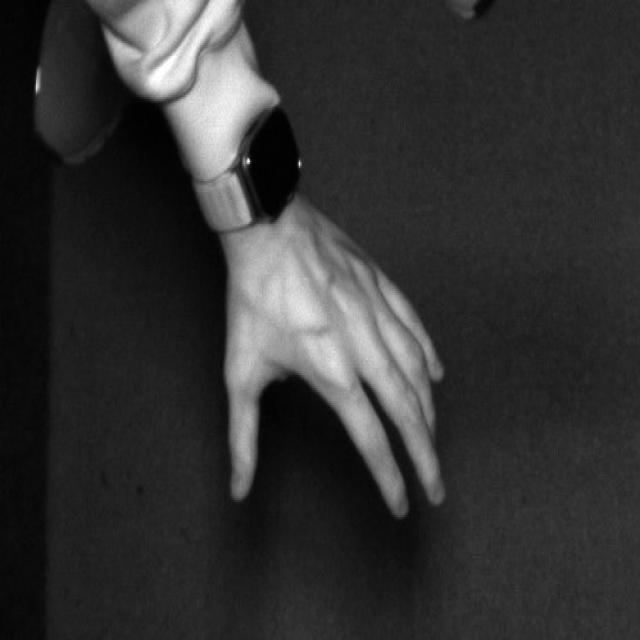no-gloves: (208, 223, 454, 517)
